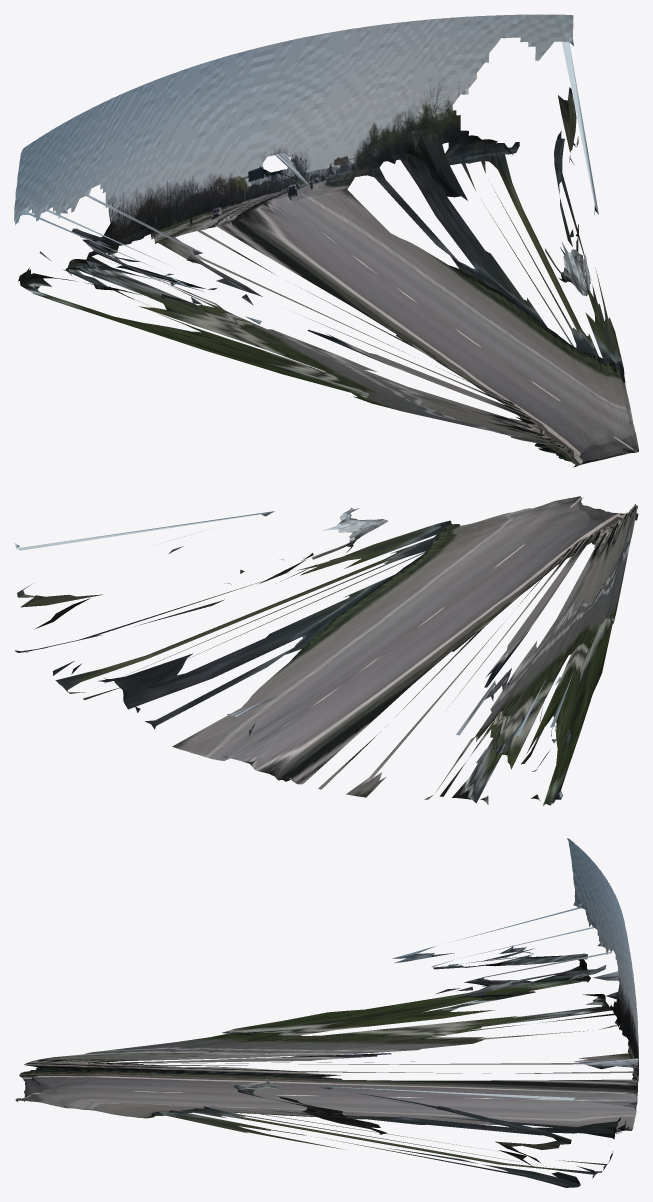
The picture shows the model from 3 angles, top to bottom: view 1: azimuth 30°, elevation 25°; view 2: azimuth 150°, elevation 25°; view 3: azimuth 270°, elevation 25°; orthographic projection. The views are drawn at different scales.
Visible parts, largest first — view 1: defaultobject; view 2: defaultobject; view 3: defaultobject.
Part boxes in pixels (x1,y1,x2,y2): defaultobject: (14,14,638,467); defaultobject: (14,496,638,805); defaultobject: (15,838,638,1187).
Bounding box in the file's own units: 40.92 × 12.24 × 44.97.
1 material, 1 textured.
